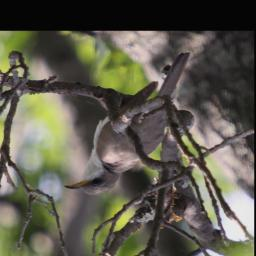Cuckoo: (62, 47, 191, 199)
